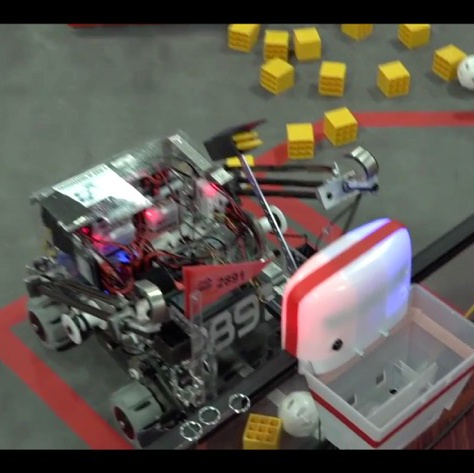robot: (21, 122, 384, 450)
